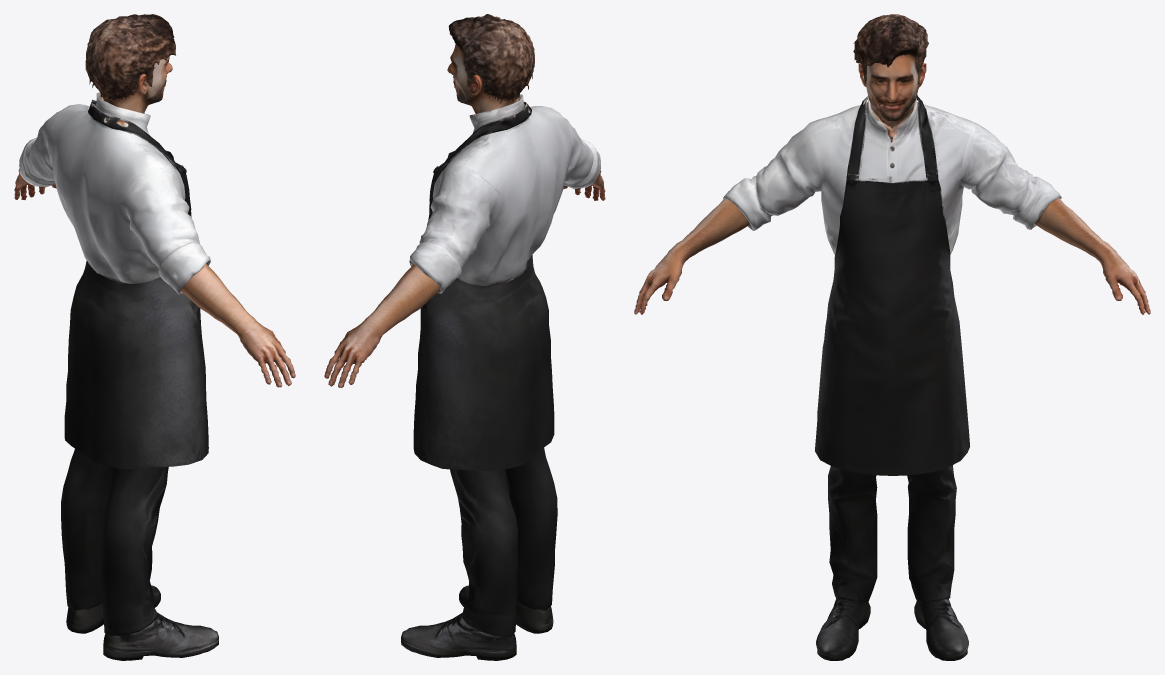
The model's file is barman_game_ready.glb.
The picture shows the model from 3 angles, left to right: view 1: azimuth 30°, elevation 25°; view 2: azimuth 150°, elevation 25°; view 3: azimuth 270°, elevation 25°; orthographic projection.
Visible parts, largest first — view 1: tripo_node_dfb0a6c1-5062-48da-9043-d7984bf4961a; view 2: tripo_node_dfb0a6c1-5062-48da-9043-d7984bf4961a; view 3: tripo_node_dfb0a6c1-5062-48da-9043-d7984bf4961a.
Boxes of the visible parts, x1=… form: tripo_node_dfb0a6c1-5062-48da-9043-d7984bf4961a: x1=14, y1=14, x2=295, y2=660; tripo_node_dfb0a6c1-5062-48da-9043-d7984bf4961a: x1=324, y1=14, x2=605, y2=660; tripo_node_dfb0a6c1-5062-48da-9043-d7984bf4961a: x1=634, y1=14, x2=1150, y2=660.
Size of the model in its own units: 0.3628 by 1.8 by 1.37.
Materials: 1 (1 with a texture image).
